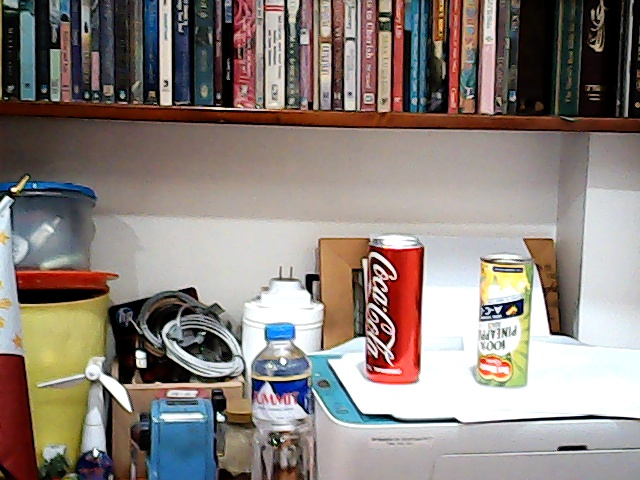Cola: (355, 226, 436, 390)
Pine Juice: (470, 248, 543, 410)
Summit Water: (247, 322, 321, 480)
